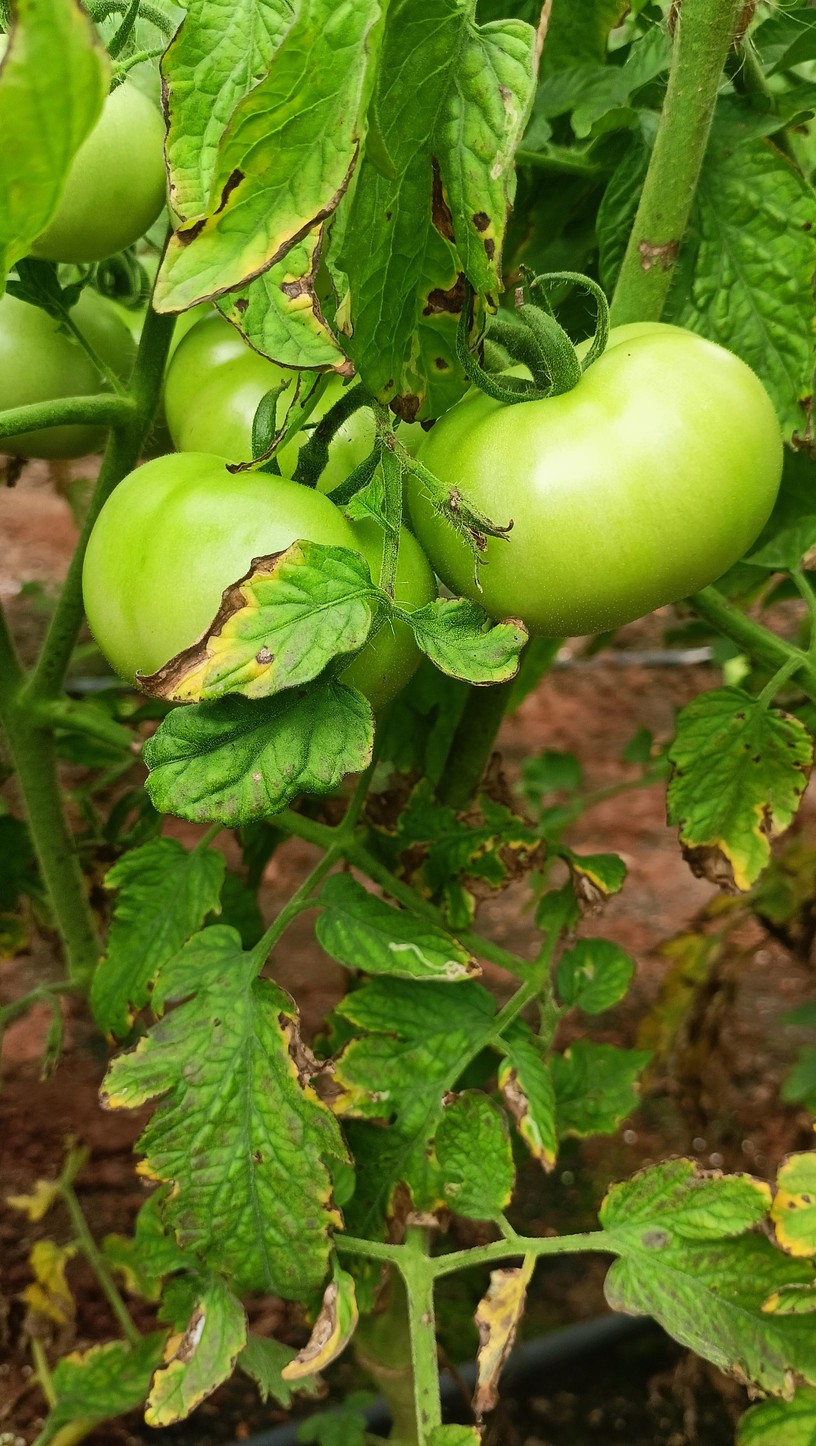Early Blight: (101, 923, 349, 1311), (334, 0, 534, 437), (120, 531, 377, 718)
